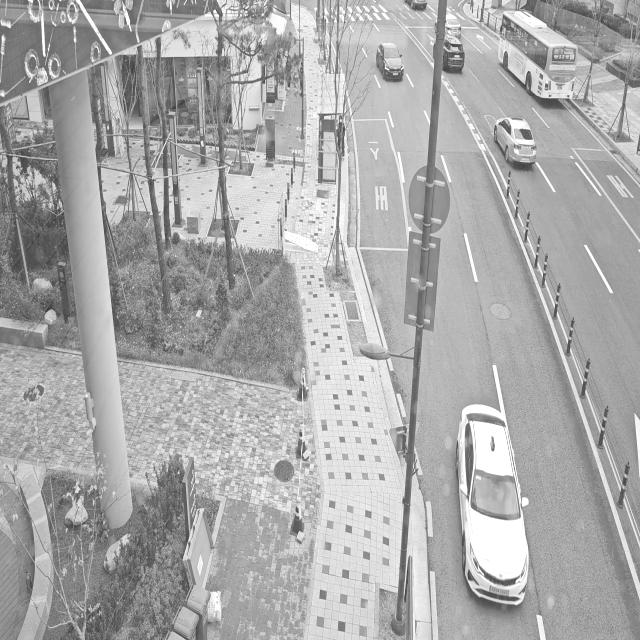Bus: (493, 8, 592, 100)
Car: (449, 401, 539, 607), (487, 108, 542, 171), (373, 31, 408, 84), (434, 32, 468, 76), (438, 4, 468, 39)
